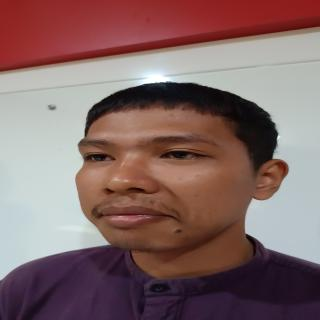Sedih: (68, 106, 256, 259)
